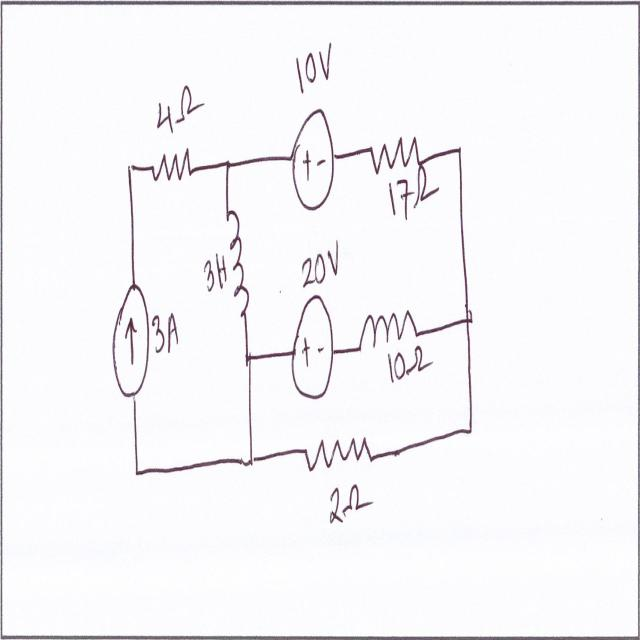current_source: (109, 278, 150, 405)
inductor: (356, 292, 419, 366), (225, 208, 255, 330)
resistor: (302, 428, 372, 477), (148, 146, 196, 202), (367, 133, 419, 176)
voltage_source: (287, 286, 338, 408), (288, 104, 339, 212)
